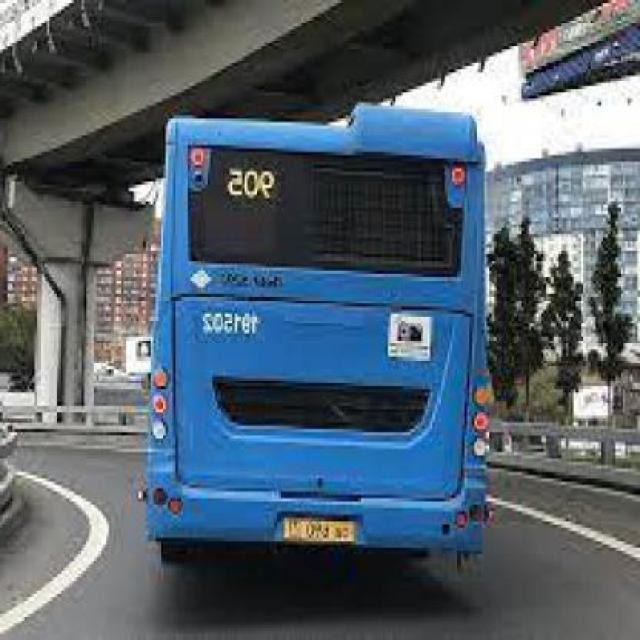bus: (141, 105, 496, 576)
